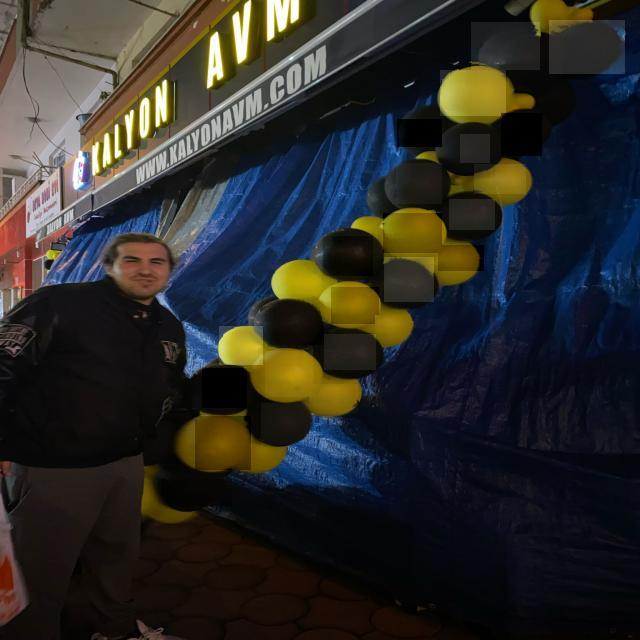balloon: (549, 20, 625, 74), (471, 22, 540, 70), (196, 416, 252, 470), (441, 70, 506, 116), (261, 298, 324, 345), (383, 213, 442, 253), (384, 257, 434, 302), (265, 351, 313, 397), (261, 403, 311, 445), (323, 236, 373, 276), (161, 479, 232, 506), (396, 163, 442, 204), (324, 334, 376, 370), (202, 368, 247, 408), (331, 287, 379, 324), (501, 113, 542, 156), (219, 326, 263, 365), (474, 164, 526, 194), (309, 384, 358, 414), (449, 199, 495, 230), (274, 265, 322, 294), (397, 119, 442, 147), (438, 245, 484, 271), (375, 315, 414, 340), (460, 134, 490, 163)
